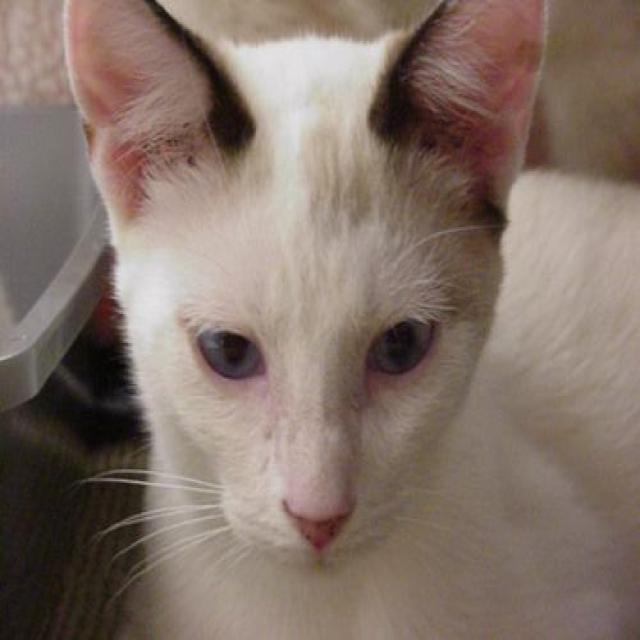cats: (62, 0, 640, 639)
